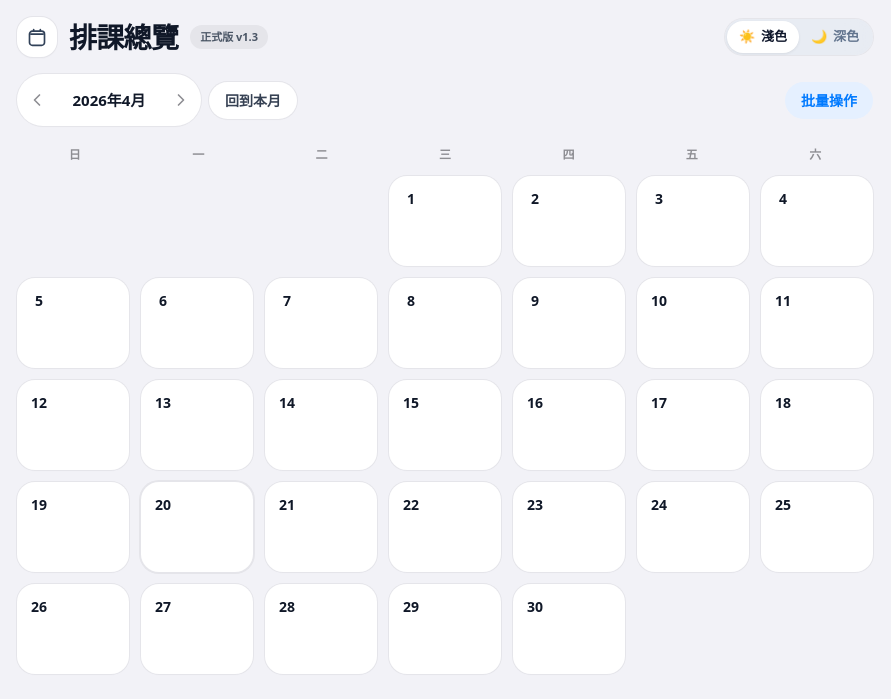
Test: MonthPage header month picker › keeps the previous and next month arrows working
Click the button named "上一個月". click: click(37, 100)
box: [21,84,53,116]
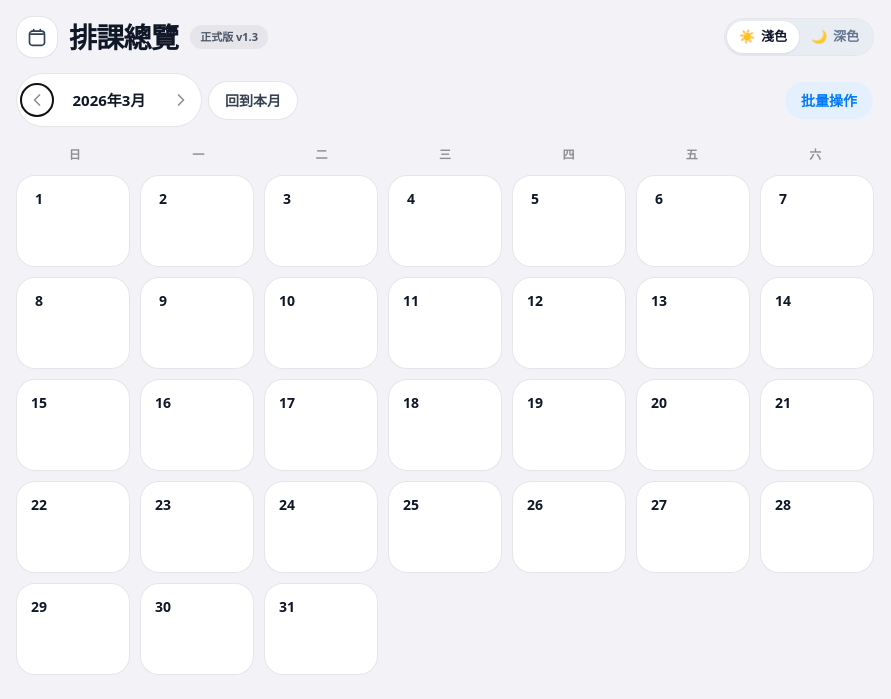
Expected: the element named "選擇月份" holds "2026-03-01", [72,90,146,110]
Now the text "2026年3月" is shown, box [72,89,146,111]
Click the button named "下一個月". click: click(181, 100)
box: [165,84,197,116]
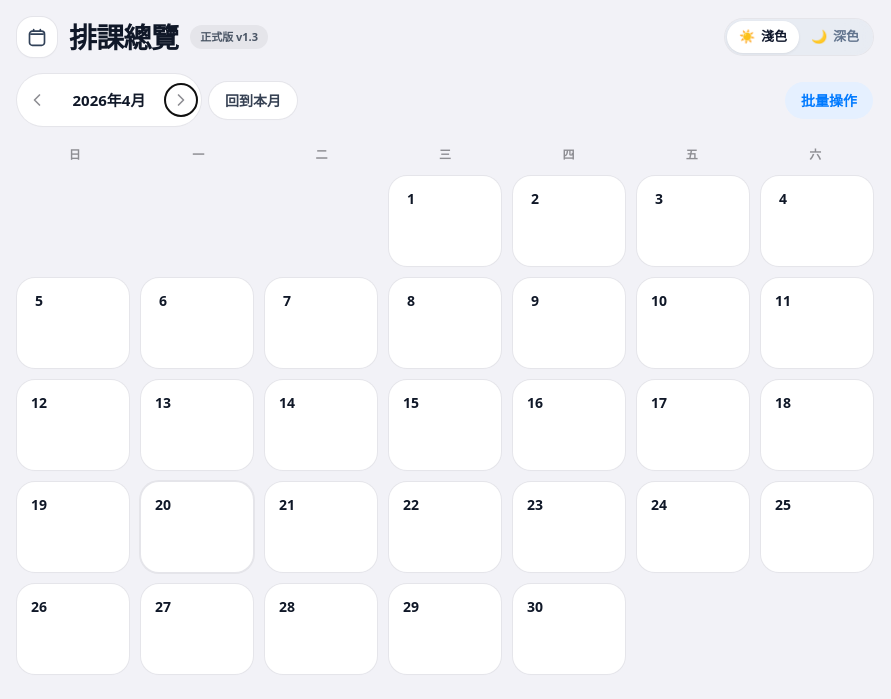
Click the button named "下一個月". click: click(181, 100)
box: [165,84,197,116]
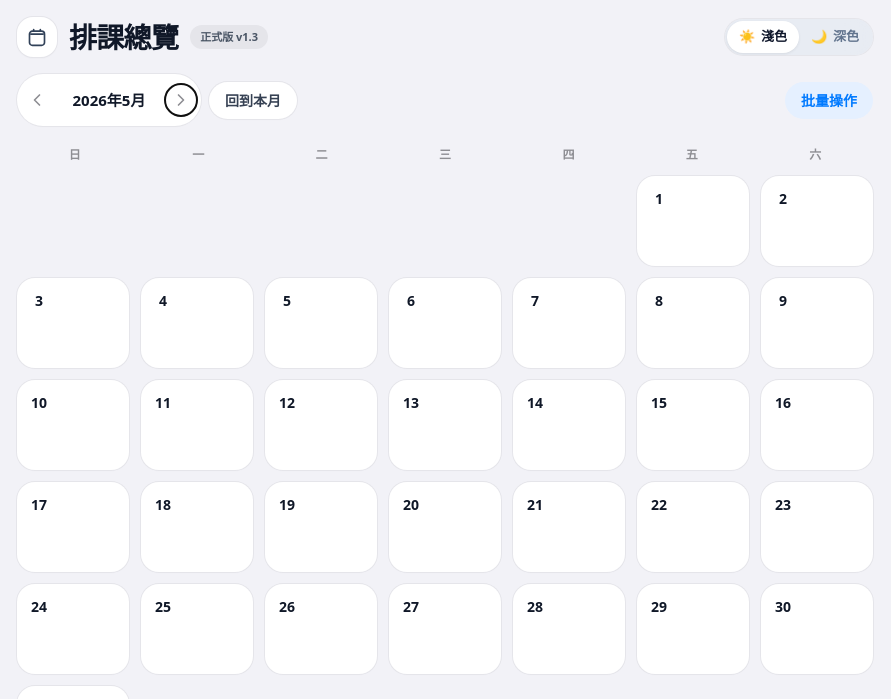
Expected: the element named "選擇月份" holds "2026-05-01", [72,90,146,110]
Now the text "2026年5月" is shown, box [72,89,146,111]
